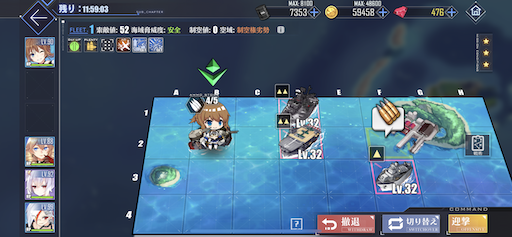lv1: (370, 156, 417, 193)
lv2: (275, 85, 320, 126), (280, 122, 323, 159)
